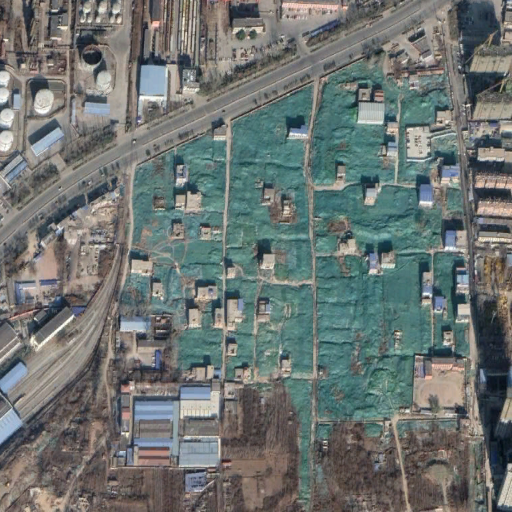cw: (117, 56, 471, 512)
